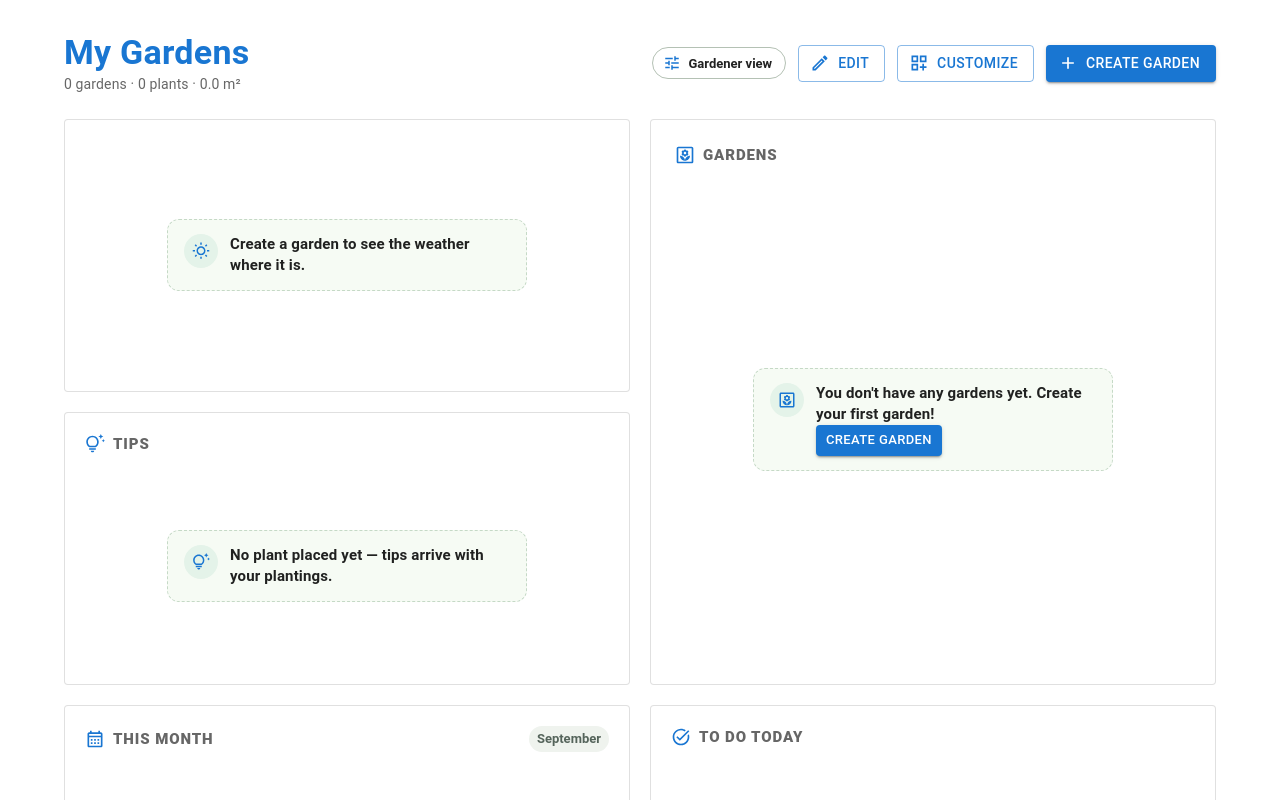
Test: GardensDashboard — Edit mode chrome (SMA-336) › the Weather gear carries « Location… », which opens the location dialog on the profile default (round 1, V21 a)
Click the button "Edit" at (842, 63), box left=798, top=45, right=885, bottom=82
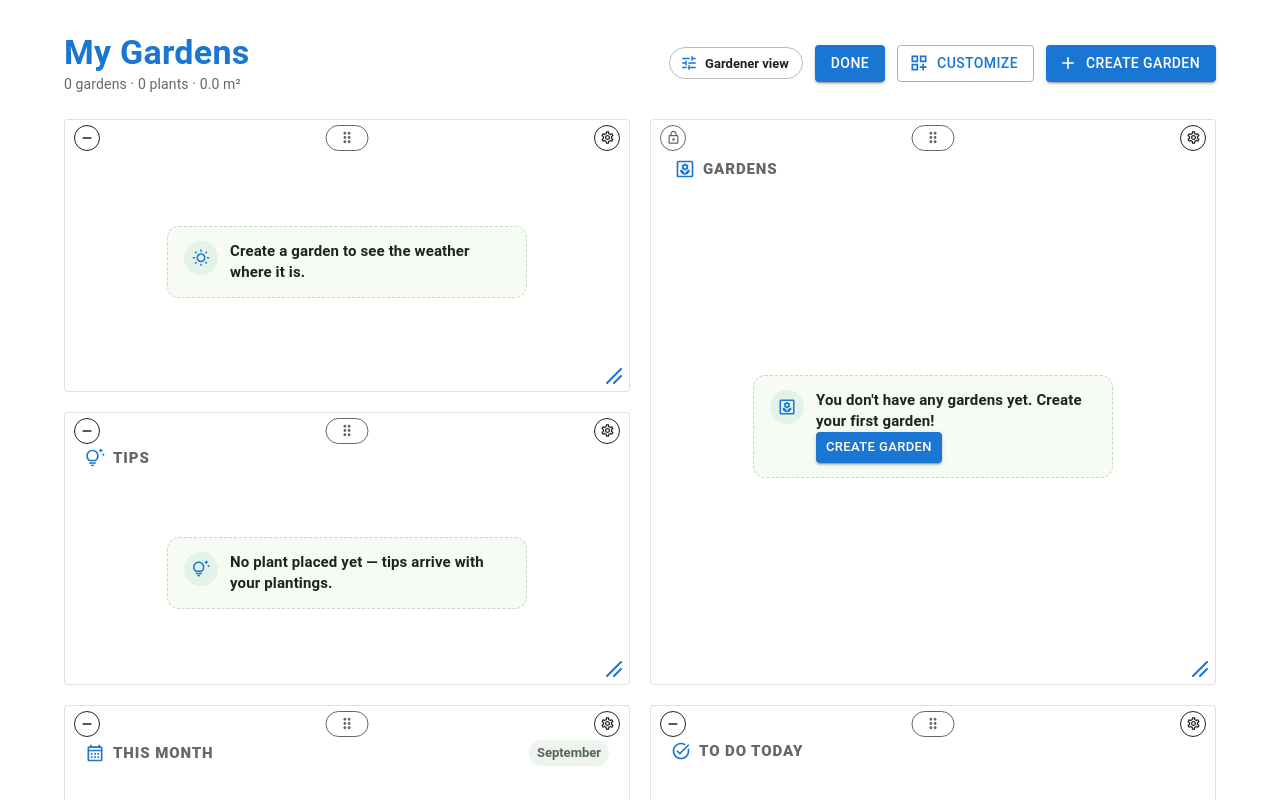
Click the button named "Weather options" at (607, 138), box left=594, top=125, right=620, bottom=151
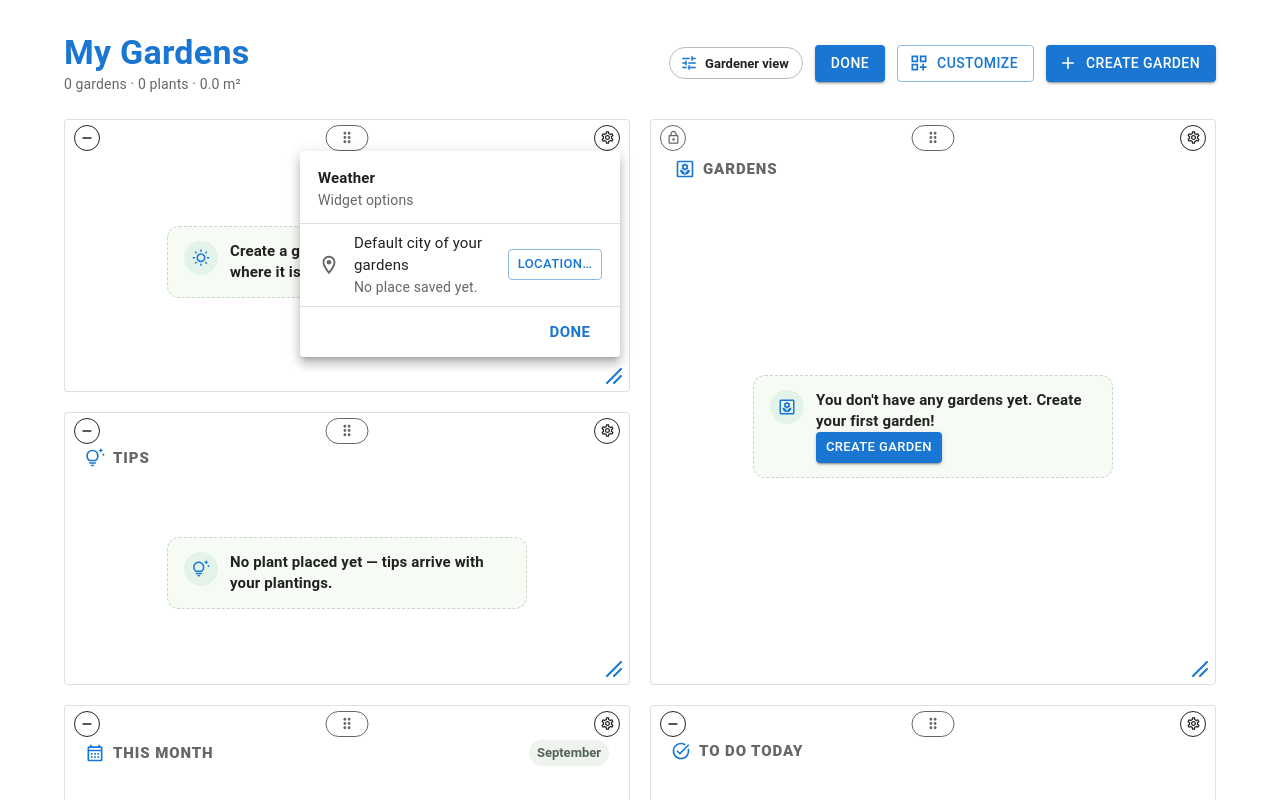
Now the text "Default city of your gardens" is shown, box left=354, top=232, right=494, bottom=276
Now the text "No place saved yet." is shown, box left=354, top=276, right=494, bottom=298
Click the button "Location…" at (555, 264), box left=508, top=249, right=602, bottom=280
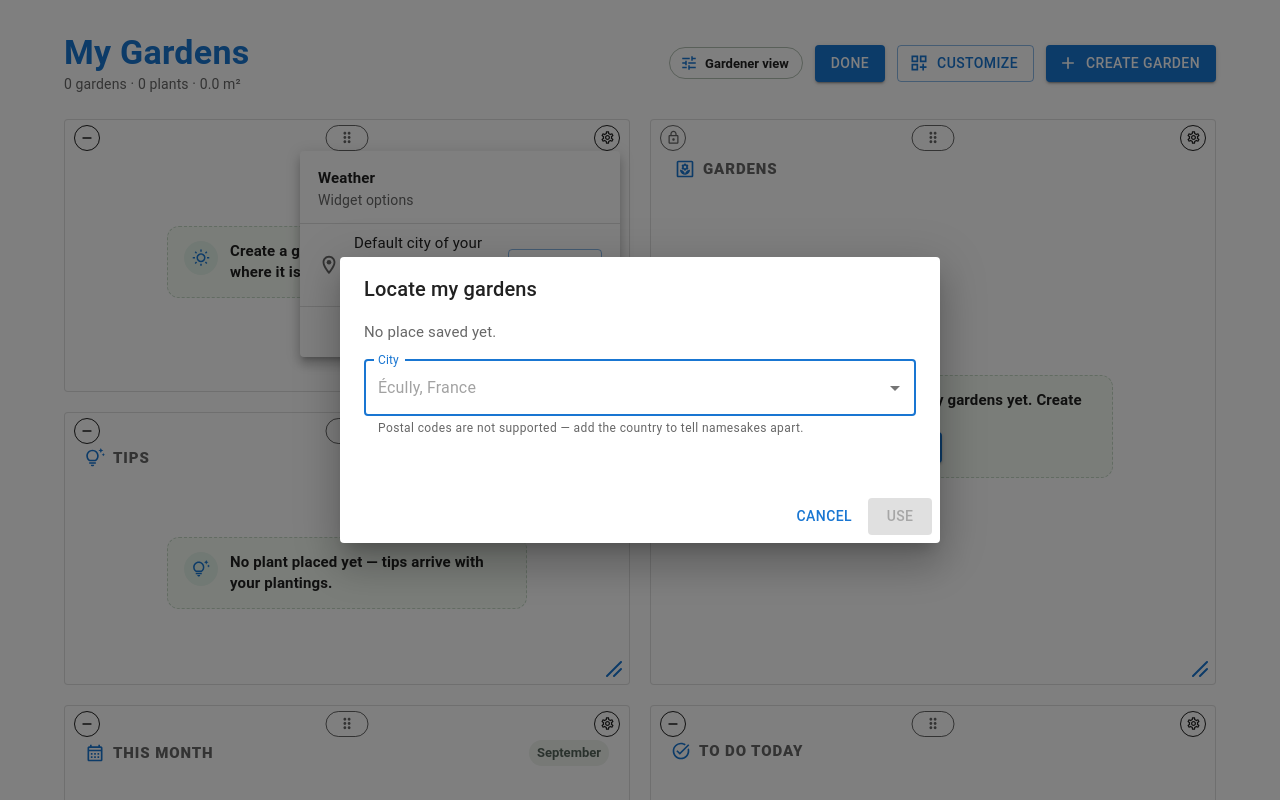
Now the text "No place saved yet." is shown, box left=364, top=323, right=496, bottom=341
